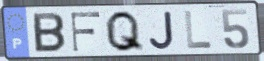5: (220, 8, 250, 51)
B: (31, 12, 67, 54)
F: (69, 11, 102, 53)
J: (148, 10, 176, 51)
L: (183, 9, 215, 50)
Q: (104, 9, 146, 54)
